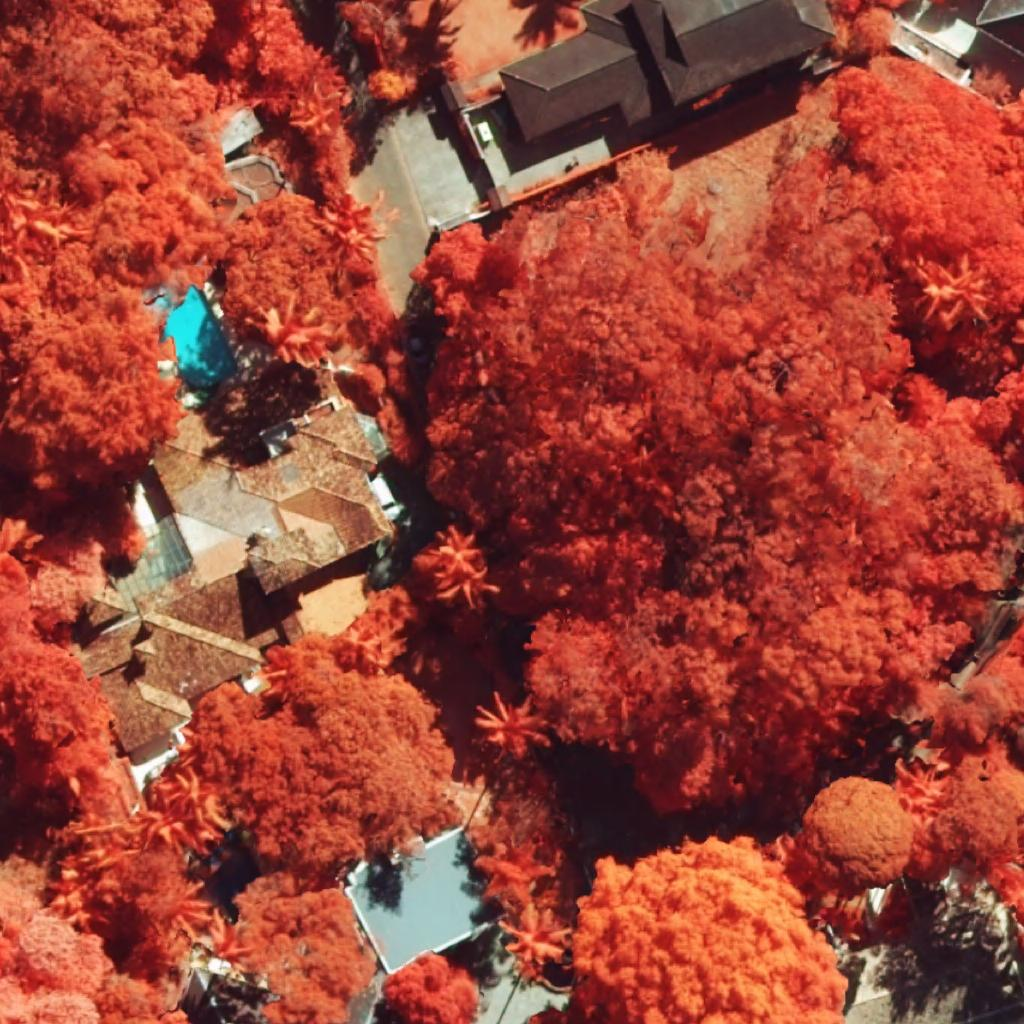pool: (160, 284, 238, 388)
